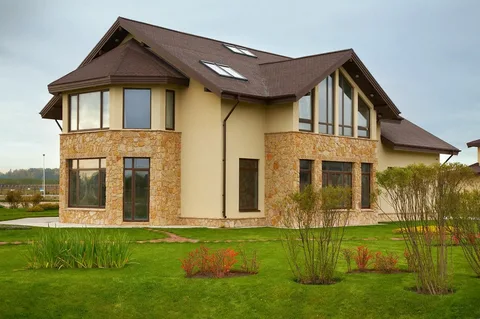private_hause: (68, 17, 380, 227)
